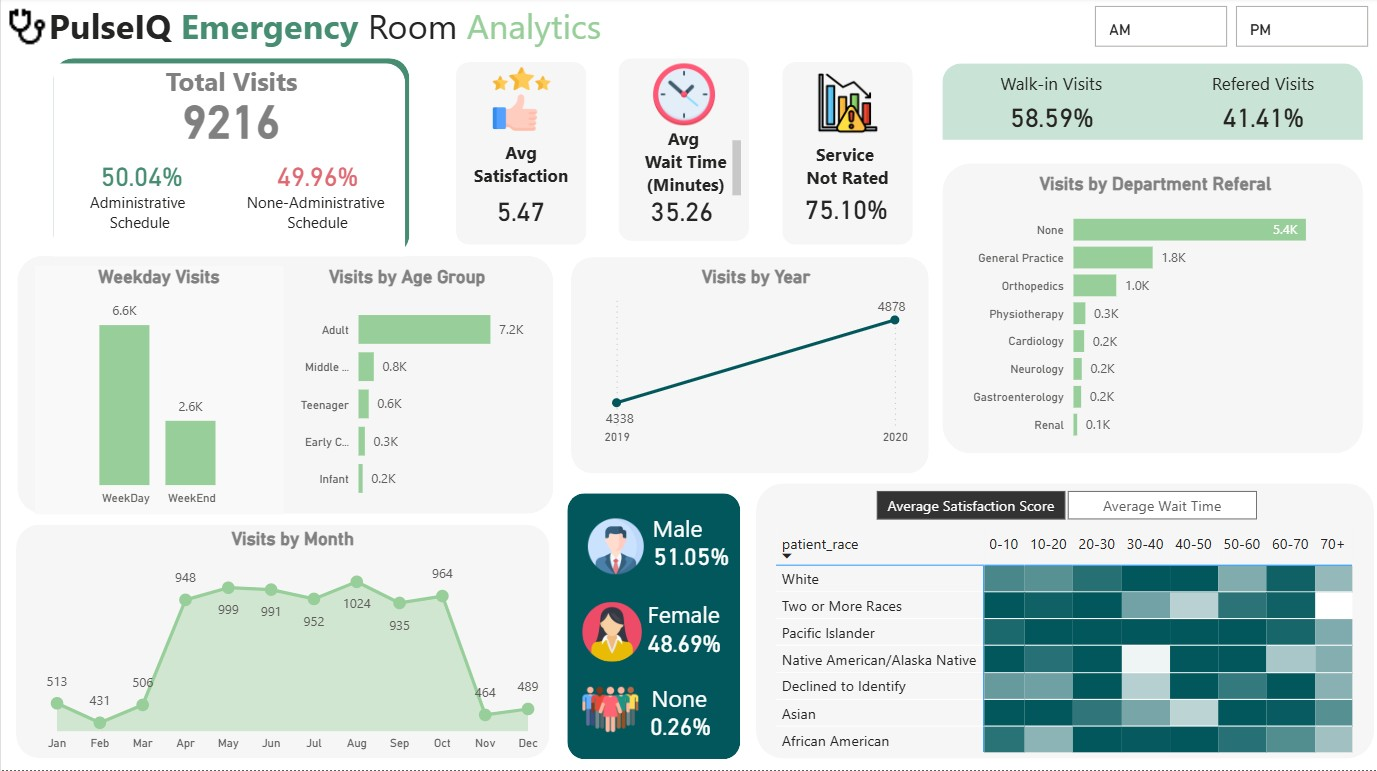

Layout of this report page (visuals, bound fields, positions):
{"tool":"powerbi","page":{"name":"Page 1","canvas":[1280,720],"ordinal":0},"visuals":[{"type":"shape","box":[48.8,57.5,331,183],"z":0},{"type":"shape","box":[13.8,491.2,496.2,217.5],"z":1000},{"type":"shape","box":[15,241.2,498.8,240],"z":2000},{"type":"shape","title":"xzcz","box":[530,241.4,332.9,201.4],"z":3000},{"type":"shape","box":[875.7,154.3,391.4,270],"z":4000},{"type":"shape","box":[575,57.5,121.4,170],"z":5000,"group":"g3"},{"type":"shape","box":[423.8,60,121.4,170],"z":5000,"group":"g1"},{"type":"shape","box":[727.7,60,121.4,170],"z":5000,"group":"g2"},{"type":"shape","box":[702.5,452.5,575,256.2],"z":5000},{"type":"shape","box":[526.2,461.2,161.1,247.5],"z":5000,"group":"g7"},{"type":"shape","box":[875.7,61.4,391.4,71.4],"z":6000},{"type":"pivotTable","fields":{"Values":["DAX operations.Average Satisfaction Score"],"Rows":["Hospitaldata.patient_race"],"Columns":["Hospitaldata.age group "]},"box":[716.2,491.2,561.2,217.5],"z":7000},{"type":"slicer","fields":{"Values":["Parameter.Parameter"]},"box":[788.8,452.5,403.8,38.8],"z":8000},{"type":"columnChart","title":"Weekday Visits","fields":{"Y":["CountNonNull(Hospitaldata.patient_id)"],"Category":["date.Weekstatus"]},"box":[31.2,250,231.2,231.2],"z":9000},{"type":"cardVisual","fields":{"Data":["DAX operations.Average Satisfaction Score"]},"box":[425.4,161.2,117.5,53.8],"z":10000,"group":"g1"},{"type":"cardVisual","fields":{"Data":["DAX operations.Average Wait Time"]},"box":[576.2,163.1,121.2,57.5],"z":10000,"group":"g3"},{"type":"cardVisual","fields":{"Data":["DAX operations.Average Non Rated"]},"box":[726,163.8,121.2,55],"z":10000,"group":"g2"},{"type":"clusteredBarChart","title":"Visits by Age Group","fields":{"Category":["Hospitaldata.age_status"],"Y":["CountNonNull(Hospitaldata.patient_id)"]},"box":[262.5,250,230,231.2],"z":10000},{"type":"lineChart","fields":{"Category":["date.MonthName"],"Y":["CountNonNull(Hospitaldata.patient_id)"]},"box":[31.2,493.8,480,215],"z":11000},{"type":"lineChart","fields":{"Category":["date.Year"],"Y":["CountNonNull(Hospitaldata.patient_id)"]},"box":[555.7,250,292.9,174.3],"z":12000},{"type":"clusteredBarChart","title":"Visits by Department Referal","fields":{"Y":["CountNonNull(Hospitaldata.patient_id)"],"Category":["Hospitaldata.department_referral"]},"box":[898.8,163.8,350,260],"z":13000},{"type":"cardVisual","fields":{"Data":["DAX operations.Walkin Patientss","DAX operations.Refered Patients"]},"box":[875.7,52.9,401.4,78.6],"z":14000},{"type":"advancedSlicerVisual","fields":{"Values":["Hospitaldata.AMPMstatus"]},"box":[1012.5,3.8,265,48.8],"z":15000},{"type":"shape","box":[48.6,61.4,327.1,180],"z":16000},{"type":"cardVisual","fields":{"Data":["DAX operations.Administrative Schedule"]},"box":[48.8,132.5,163.8,63.8],"z":17000},{"type":"cardVisual","fields":{"Data":["DAX operations.Unadministrative schedule"]},"box":[212.5,132.5,163.8,61.2],"z":18000},{"type":"textbox","box":[40,0,600,52.5],"z":19000},{"type":"image","box":[0,2.5,48.8,50],"z":20000},{"type":"group","id":"g1","title":"Group 5","box":[423.8,60,121.2,170],"z":21000},{"type":"cardVisual","fields":{"Data":["DAX operations.Male"]},"box":[587.6,492,107.4,50.2],"z":21000,"group":"g8"},{"type":"cardVisual","fields":{"Data":["DAX operations.Female"]},"box":[578.4,570.1,113.6,52.3],"z":21000,"group":"g5"},{"type":"group","id":"g2","title":"Group 5","box":[726,60,123.2,170],"z":22000},{"type":"cardVisual","fields":{"Data":["DAX operations.None"]},"box":[570.9,648.4,122.4,51.7],"z":22000,"group":"g6"},{"type":"group","id":"g3","title":"Group 5","box":[575,57.5,122.5,170],"z":23000},{"type":"group","id":"g4","title":"Group 2","box":[538.7,474.4,156.3,67.9],"z":23000,"group":"g7"},{"type":"image","box":[745,65,85,67.5],"z":24000},{"type":"group","id":"g5","title":"Group 3","box":[535.9,554.2,156.1,68.2],"z":24000,"group":"g7"},{"type":"image","box":[592.5,65,85,67.5],"z":25000},{"type":"group","id":"g6","title":"Group 4","box":[535.9,631.9,157.4,68.2],"z":25000,"group":"g7"},{"type":"group","id":"g7","title":"Group 6","box":[526.2,461.2,168.8,247.5],"z":26000},{"type":"cardVisual","fields":{"Data":["DAX operations.Total Patients"]},"box":[88.8,52.5,251.2,118.8],"z":27000},{"type":"textbox","box":[141.2,57.5,147.5,55],"z":28000},{"type":"textbox","box":[71.2,176.2,112.5,53.8],"z":29000},{"type":"textbox","box":[213.8,176.2,157.5,53.8],"z":30000},{"type":"image","box":[442.9,60,85,68.8],"z":32000,"group":"g1"},{"type":"image","box":[535.9,557.6,64.9,64.7],"z":34000,"group":"g5"},{"type":"textbox","box":[425.4,127.5,118.8,66.2],"z":34001,"group":"g1"},{"type":"textbox","box":[582.2,128.1,105,67.5],"z":34001,"group":"g3"},{"type":"textbox","box":[735,130,105,63.8],"z":34001,"group":"g2"},{"type":"image","box":[538.7,479.9,64.9,62.2],"z":35000,"group":"g4"},{"type":"image","box":[535.9,635.4,61.9,62.5],"z":35000,"group":"g6"},{"type":"textbox","box":[595.8,554.2,86.2,41.1],"z":36000,"group":"g5"},{"type":"textbox","box":[599.6,631.9,81.2,39.1],"z":37000,"group":"g6"},{"type":"textbox","box":[600.7,474.4,86.2,39.5],"z":38000,"group":"g8"},{"type":"group","id":"g8","title":"Group 1","box":[587.6,474.4,107.4,67.9],"z":39002,"group":"g4"}]}

Visuals, with their boxes in screenshot pixels (x1, y1, x2, y2), scaled from the page's 1280x720 canvas onto the 1377x771 screenshot:
shape: bbox=[52, 62, 409, 258]
shape: bbox=[15, 526, 549, 759]
shape: bbox=[16, 258, 553, 515]
"xzcz" shape: bbox=[570, 258, 928, 474]
shape: bbox=[942, 165, 1363, 454]
shape: bbox=[619, 62, 749, 244]
shape: bbox=[456, 64, 587, 246]
shape: bbox=[783, 64, 913, 246]
shape: bbox=[756, 485, 1374, 759]
shape: bbox=[566, 494, 739, 759]
shape: bbox=[942, 66, 1363, 142]
pivotTable - DAX operations.Average Satisfaction Score x Hospitaldata.patient_race: bbox=[770, 526, 1374, 759]
slicer - Parameter.Parameter: bbox=[849, 485, 1283, 526]
"Weekday Visits" columnChart: bbox=[34, 268, 282, 515]
cardVisual - DAX operations.Average Satisfaction Score: bbox=[458, 173, 584, 230]
cardVisual - DAX operations.Average Wait Time: bbox=[620, 175, 750, 236]
cardVisual - DAX operations.Average Non Rated: bbox=[781, 175, 911, 234]
"Visits by Age Group" clusteredBarChart: bbox=[282, 268, 530, 515]
lineChart - date.MonthName x CountNonNull(Hospitaldata.patient_id): bbox=[34, 529, 550, 759]
lineChart - date.Year x CountNonNull(Hospitaldata.patient_id): bbox=[598, 268, 913, 454]
"Visits by Department Referal" clusteredBarChart: bbox=[967, 175, 1343, 454]
cardVisual - DAX operations.Walkin Patientss x DAX operations.Refered Patients: bbox=[942, 57, 1374, 141]
advancedSlicerVisual - Hospitaldata.AMPMstatus: bbox=[1089, 4, 1374, 56]
shape: bbox=[52, 66, 404, 258]
cardVisual - DAX operations.Administrative Schedule: bbox=[52, 142, 229, 210]
cardVisual - DAX operations.Unadministrative schedule: bbox=[229, 142, 405, 207]
textbox: bbox=[43, 0, 688, 56]
image: bbox=[0, 3, 52, 56]
"Group 5" group: bbox=[456, 64, 586, 246]
cardVisual - DAX operations.Male: bbox=[632, 527, 748, 581]
cardVisual - DAX operations.Female: bbox=[622, 610, 744, 666]
"Group 5" group: bbox=[781, 64, 914, 246]
cardVisual - DAX operations.None: bbox=[614, 694, 746, 750]
"Group 5" group: bbox=[619, 62, 750, 244]
"Group 2" group: bbox=[580, 508, 748, 581]
image: bbox=[801, 70, 893, 142]
"Group 3" group: bbox=[577, 593, 744, 666]
image: bbox=[637, 70, 729, 142]
"Group 4" group: bbox=[577, 677, 746, 750]
"Group 6" group: bbox=[566, 494, 748, 759]
cardVisual - DAX operations.Total Patients: bbox=[96, 56, 366, 183]
textbox: bbox=[152, 62, 311, 120]
textbox: bbox=[77, 189, 198, 246]
textbox: bbox=[230, 189, 399, 246]
image: bbox=[476, 64, 568, 138]
image: bbox=[577, 597, 646, 666]
textbox: bbox=[458, 137, 585, 207]
textbox: bbox=[626, 137, 739, 209]
textbox: bbox=[791, 139, 904, 208]
image: bbox=[580, 514, 649, 580]
image: bbox=[577, 680, 643, 747]
textbox: bbox=[641, 593, 734, 637]
textbox: bbox=[645, 677, 732, 719]
textbox: bbox=[646, 508, 739, 550]
"Group 1" group: bbox=[632, 508, 748, 581]
